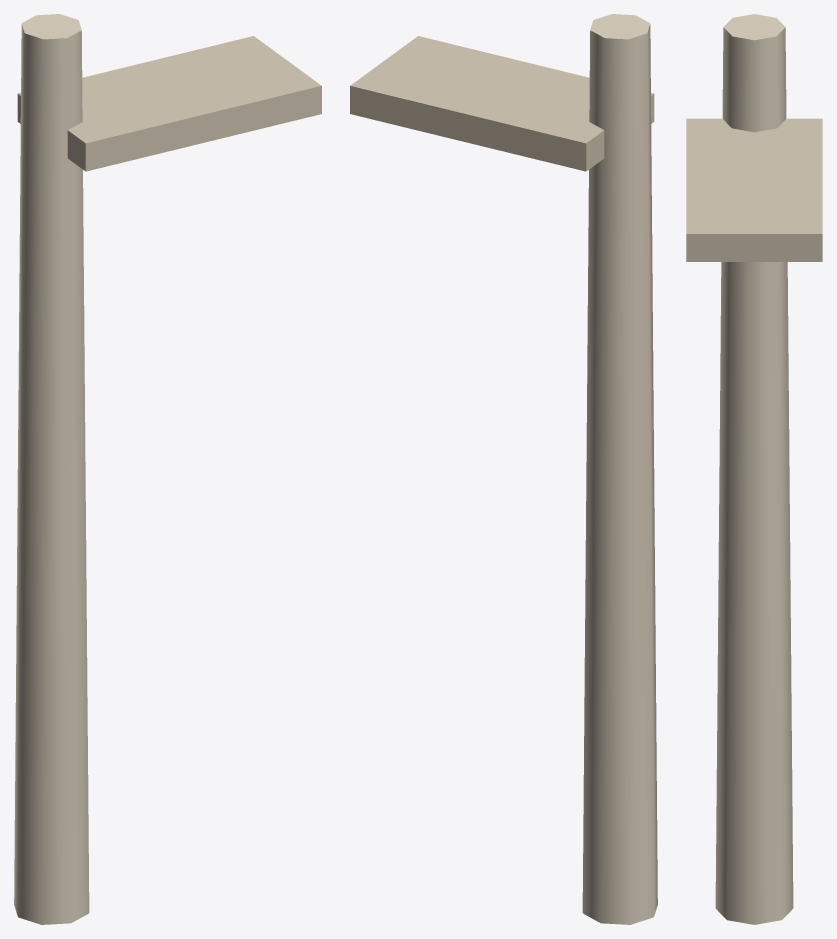
File: lamp.glb
The picture shows the model from 3 angles, left to right: view 1: azimuth 30°, elevation 25°; view 2: azimuth 150°, elevation 25°; view 3: azimuth 270°, elevation 25°; orthographic projection.
Parts seen in each view (by area): view 1: CoastLamp; view 2: CoastLamp; view 3: CoastLamp.
Boxes of the visible parts, x1,y1,x2,y2 form: CoastLamp: [14, 14, 321, 924]; CoastLamp: [350, 14, 657, 924]; CoastLamp: [686, 14, 822, 924].
Bounding box in the file's own units: 0.8 × 2.5 × 0.35.
